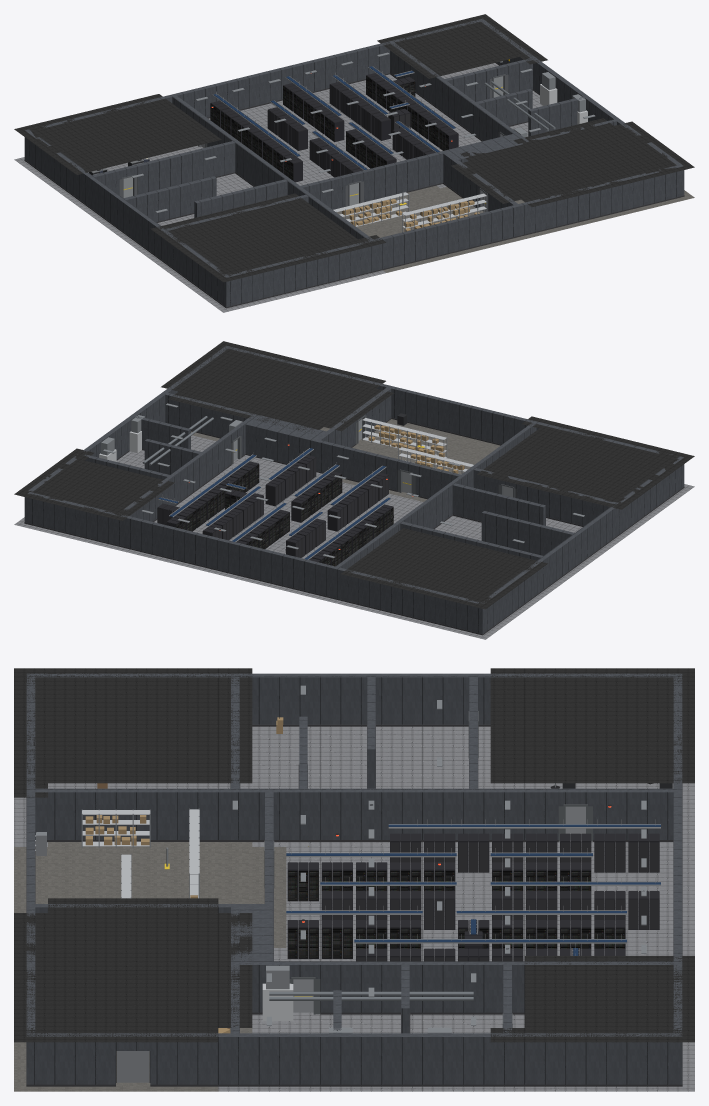
The model's file is kernelpanic_mapa.glb.
3 views of the same model, one above another, from view 1: azimuth 30°, elevation 25°; view 2: azimuth 150°, elevation 25°; view 3: azimuth 270°, elevation 25° (orthographic). The views are drawn at different scales.
Visible parts, largest first — view 1: Muros, Techo_Boveda, Techo_Recepcion, Techo_NOC, Techo_Electrico, Piso_SalaRacks, Piso_Bodega, Zocalos, Cables_Bandeja, Bandejas_Cable, Estanteria_2, Estanteria_1 (+6 smaller); view 2: Muros, Techo_Boveda, Techo_Recepcion, Techo_NOC, Techo_Electrico, Piso_SalaRacks, Piso_Bodega, Zocalos, Cables_Bandeja, Estanteria_2, Bandejas_Cable, Piso_Pasillo (+6 smaller); view 3: Muros, Techo_Boveda, Techo_Recepcion, Techo_NOC, Piso_SalaRacks, Techo_Electrico, Piso_Bodega, Piso_Pasillo, Piso_Enfriamiento, Bandejas_Cable, Cables_Bandeja, Zocalos (+10 smaller).
Boxes of the visible parts, bbox=[...] form: Muros: bbox=[24, 18, 684, 306]; Techo_Boveda: bbox=[451, 118, 694, 206]; Techo_Recepcion: bbox=[150, 193, 385, 282]; Techo_NOC: bbox=[14, 94, 221, 174]; Techo_Electrico: bbox=[377, 14, 547, 78]; Piso_SalaRacks: bbox=[191, 80, 474, 188]; Piso_Bodega: bbox=[337, 185, 531, 272]; Zocalos: bbox=[24, 62, 684, 308]; Cables_Bandeja: bbox=[214, 66, 455, 169]; Bandejas_Cable: bbox=[212, 66, 456, 170]; Estanteria_2: bbox=[402, 193, 486, 232]; Estanteria_1: bbox=[333, 192, 409, 226]; Muros: bbox=[24, 345, 684, 633]; Techo_Boveda: bbox=[161, 341, 393, 433]; Techo_Recepcion: bbox=[477, 416, 694, 509]; Techo_NOC: bbox=[341, 528, 547, 609]; Techo_Electrico: bbox=[14, 448, 174, 520]; Piso_SalaRacks: bbox=[123, 457, 458, 604]; Piso_Bodega: bbox=[342, 419, 500, 501]; Zocalos: bbox=[24, 418, 684, 635]; Cables_Bandeja: bbox=[159, 448, 390, 559]; Estanteria_2: bbox=[362, 417, 447, 457]; Bandejas_Cable: bbox=[158, 448, 391, 559]; Piso_Pasillo: bbox=[441, 517, 621, 593]; Muros: bbox=[26, 673, 682, 1084]; Techo_Boveda: bbox=[14, 898, 252, 1042]; Techo_Recepcion: bbox=[14, 668, 252, 797]; Techo_NOC: bbox=[490, 668, 694, 783]; Piso_SalaRacks: bbox=[274, 832, 694, 1019]; Techo_Electrico: bbox=[490, 956, 694, 1042]; Piso_Bodega: bbox=[14, 842, 286, 947]; Piso_Pasillo: bbox=[252, 726, 490, 846]; Piso_Enfriamiento: bbox=[218, 1012, 524, 1091]; Bandejas_Cable: bbox=[286, 819, 660, 955]; Cables_Bandeja: bbox=[286, 824, 660, 955]; Zocalos: bbox=[26, 724, 682, 1086].
Size of the model in its own units: 52 by 3.2 by 40.
52 materials, 16 textured.
